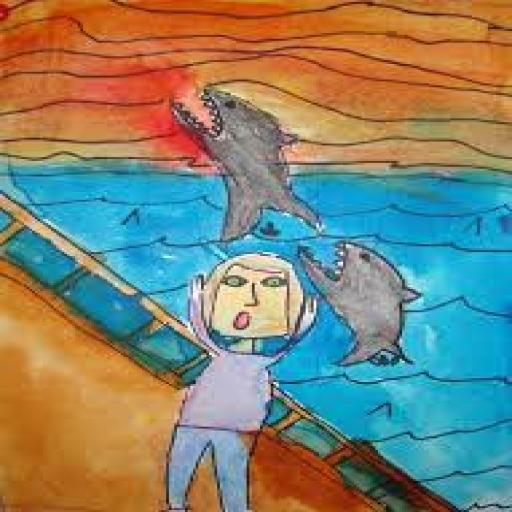person: (155, 242, 334, 512)
